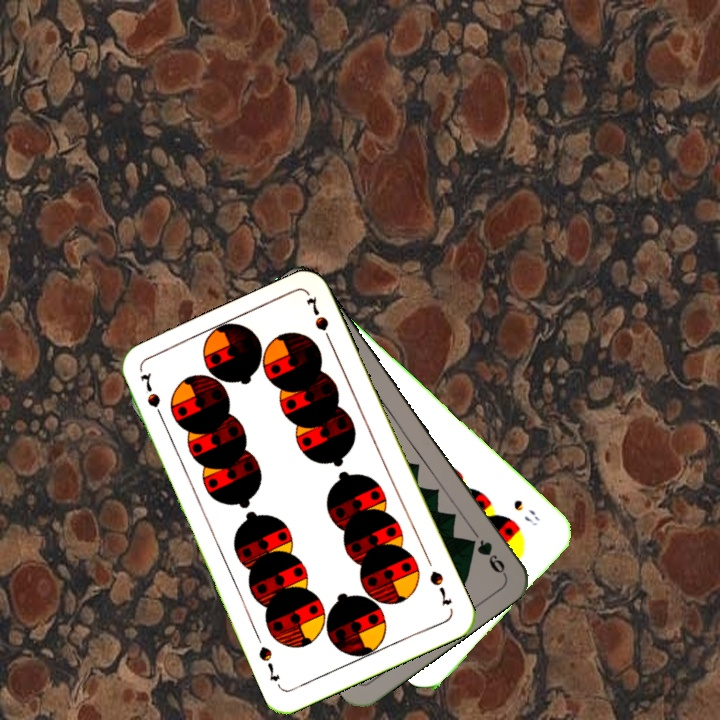G9: (468, 526, 508, 577)
S7: (136, 368, 167, 425), (425, 566, 455, 608)
S8: (509, 495, 542, 529)
